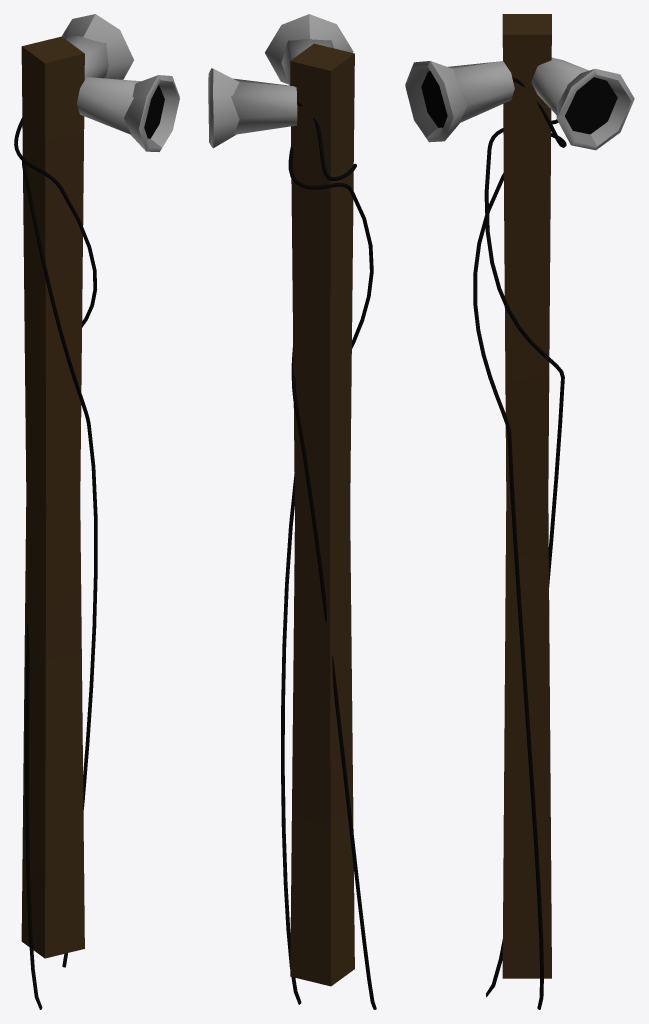
The model's file is Speaker Pole3323232332.fbx.
3 views of the same model, side by side, from view 1: azimuth 30°, elevation 25°; view 2: azimuth 150°, elevation 25°; view 3: azimuth 270°, elevation 25° (orthographic). The views are drawn at different scales.
Visible parts, largest first — view 1: BézierCurve; view 2: BézierCurve; view 3: BézierCurve.
Part boxes in pixels (bbox=[...]): BézierCurve: bbox=[14, 14, 179, 1009]; BézierCurve: bbox=[208, 14, 376, 1009]; BézierCurve: bbox=[405, 14, 634, 1009].
Bounding box in the file's own units: 69.31 × 480 × 101.
Materials: 4 (1 with a texture image).
